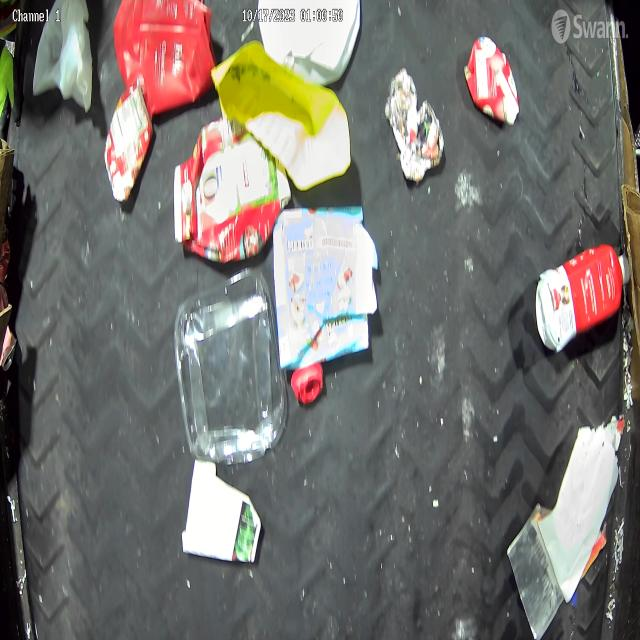milk_jug: (258, 0, 361, 85), (33, 0, 92, 113)
non_white_jug: (213, 43, 350, 189), (174, 118, 291, 263), (113, 1, 216, 113), (535, 243, 625, 351), (467, 34, 520, 126)
